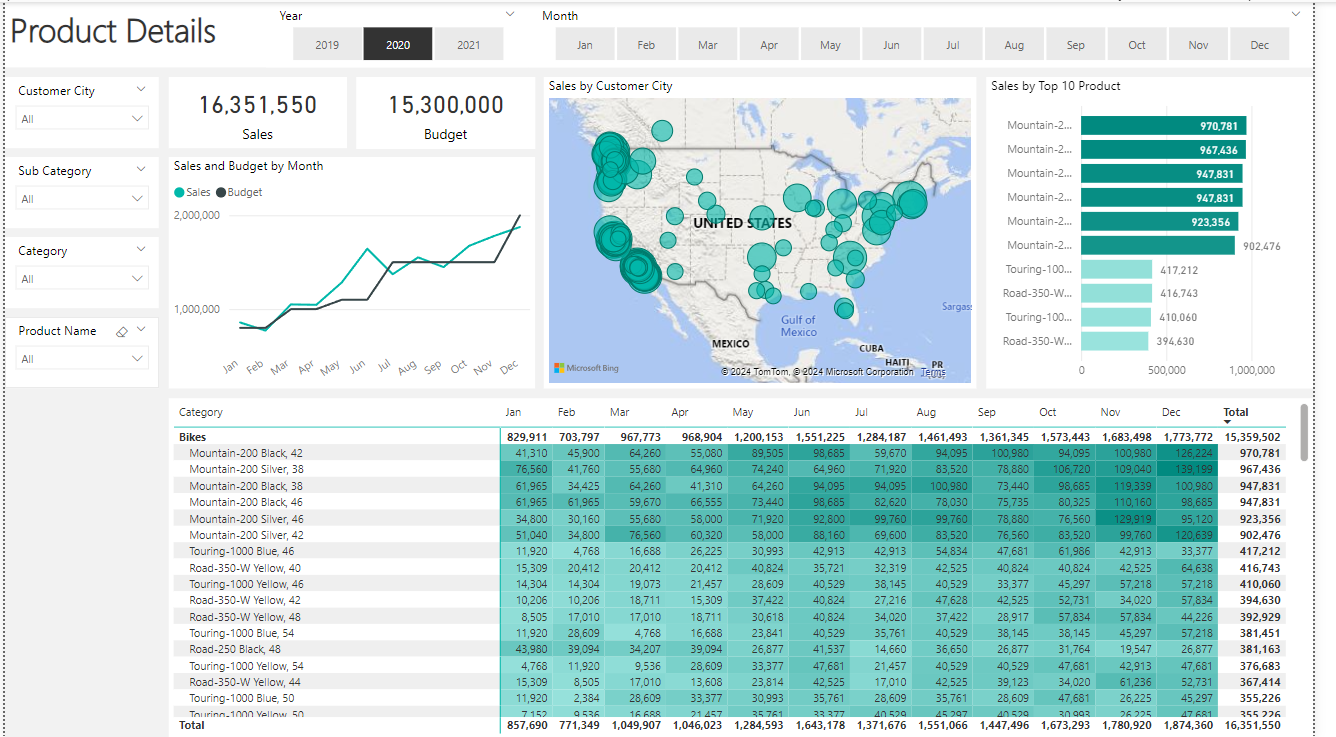

What the dashboard file says about the page in this screenshot:
{"tool":"powerbi","page":{"name":"product","canvas":[1280,720],"ordinal":2},"visuals":[{"type":"textbox","box":[0,0,1280,64],"z":0},{"type":"slicer","fields":{"Values":["DIM_Calendar.Year"]},"box":[256,0,256,64],"z":1000},{"type":"slicer","fields":{"Values":["DIM_Calendar.MonthShort"]},"box":[512,0,768,64],"z":2000},{"type":"slicer","fields":{"Values":["DIM_Customers.Customer City"]},"box":[0,73,150.5,69.3],"z":3000},{"type":"slicer","fields":{"Values":["DIM_Products.Product Category"]},"box":[0,229.9,150.5,69.3],"z":4000},{"type":"slicer","fields":{"Values":["DIM_Products.Product Name"]},"box":[0,308.4,150.5,69.3],"z":5000},{"type":"slicer","fields":{"Values":["DIM_Products.Sub Category"]},"box":[0,151.4,150.5,69.3],"z":6000},{"type":"lineChart","fields":{"Category":["DIM_Calendar.MonthShort"],"Y":["Analysis Metrics.Sales","Analysis Metrics.Budget"]},"box":[159.8,151.8,358.7,226.4],"z":7000},{"type":"card","fields":{"Values":["Analysis Metrics.Sales"]},"box":[160.7,72.8,174,69.2],"z":8000},{"type":"map","fields":{"Category":["DIM_Customers.Customer City"],"Size":["Analysis Metrics.Sales"]},"box":[527.3,72.8,423.5,304.5],"z":9000},{"type":"card","fields":{"Values":["Analysis Metrics.Budget"]},"box":[343.6,72.8,174.9,70.1],"z":10000},{"type":"pivotTable","fields":{"Rows":["DIM_Products.Product Category","DIM_Products.Product Name"],"Columns":["DIM_Calendar.MonthShort"],"Values":["Analysis Metrics.Sales"]},"box":[159.8,387.1,1120.4,332.9],"z":11000},{"type":"clusteredBarChart","title":"Sales by Top 10 Product","fields":{"Category":["DIM_Products.Product Name"],"Y":["Analysis Metrics.Sales"]},"box":[959.7,72.8,320.5,304.5],"z":12000}]}

Visuals, with their boxes in screenshot pixels (x1, y1, x2, y2), scaled from the page's 1280x720 canvas onto the 1336x737 screenshot:
textbox: box(0, 0, 1335, 66)
slicer - DIM_Calendar.Year: box(267, 0, 534, 66)
slicer - DIM_Calendar.MonthShort: box(534, 0, 1335, 66)
slicer - DIM_Customers.Customer City: box(0, 75, 157, 146)
slicer - DIM_Products.Product Category: box(0, 235, 157, 306)
slicer - DIM_Products.Product Name: box(0, 316, 157, 387)
slicer - DIM_Products.Sub Category: box(0, 155, 157, 226)
lineChart - DIM_Calendar.MonthShort x Analysis Metrics.Sales: box(167, 155, 541, 387)
card - Analysis Metrics.Sales: box(168, 75, 349, 145)
map - DIM_Customers.Customer City x Analysis Metrics.Sales: box(550, 75, 992, 386)
card - Analysis Metrics.Budget: box(359, 75, 541, 146)
pivotTable - DIM_Products.Product Category x DIM_Products.Product Name: box(167, 396, 1335, 736)
"Sales by Top 10 Product" clusteredBarChart: box(1002, 75, 1335, 386)
